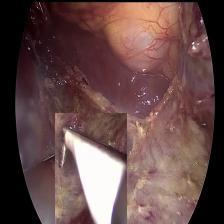Hook: (54, 112, 126, 224)
